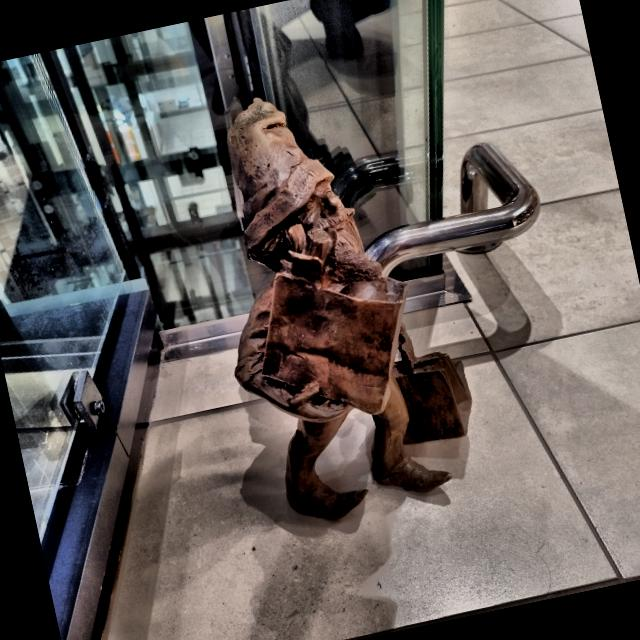Trendus: (227, 98, 471, 520)
